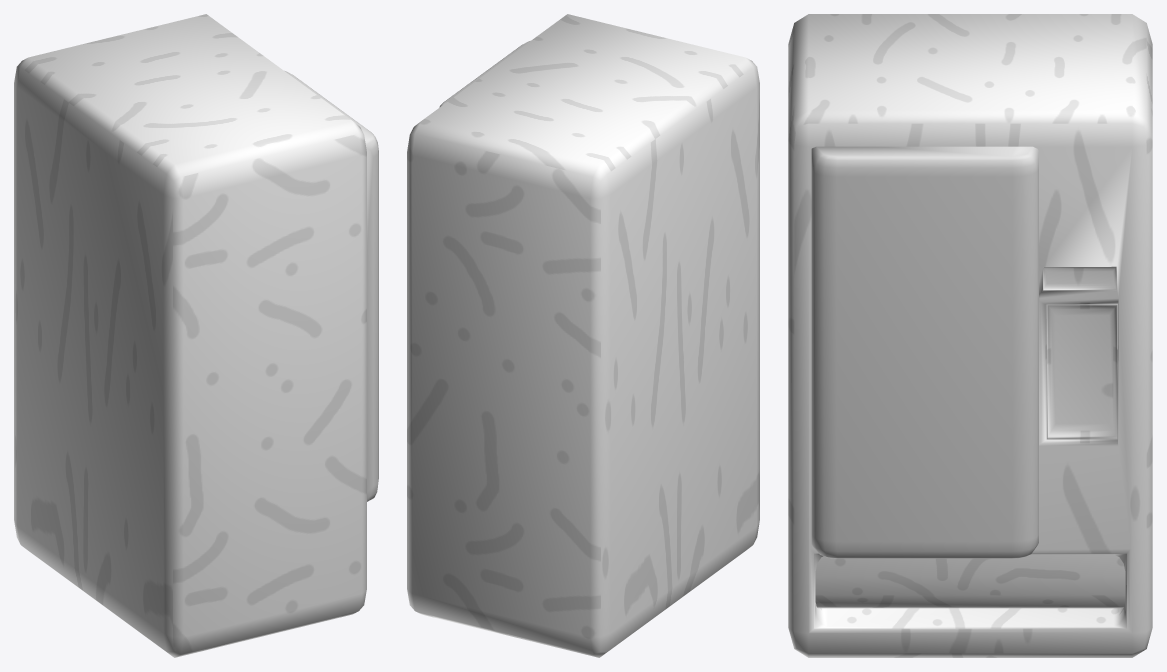
Rendered from vending.fbx.
The picture shows the model from 3 angles, left to right: view 1: azimuth 30°, elevation 25°; view 2: azimuth 150°, elevation 25°; view 3: azimuth 270°, elevation 25°; orthographic projection. The views are drawn at different scales.
Parts seen in each view (by area): view 1: Cube, Cube.001; view 2: Cube; view 3: Cube, Cube.001, Cube.002.
Part boxes in pixels (<box>): Cube: <box>14,14,366,657</box>; Cube.001: <box>284,70,378,501</box>; Cube: <box>407,14,759,657</box>; Cube: <box>788,14,1152,657</box>; Cube.001: <box>811,146,1038,558</box>; Cube.002: <box>815,554,1125,608</box>.
Size of the model in its own units: 138 by 291 by 175.
